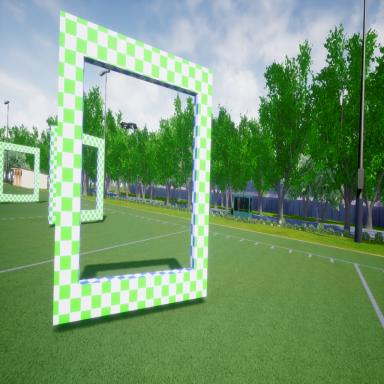gate: (50, 6, 217, 336), (0, 135, 41, 209)
